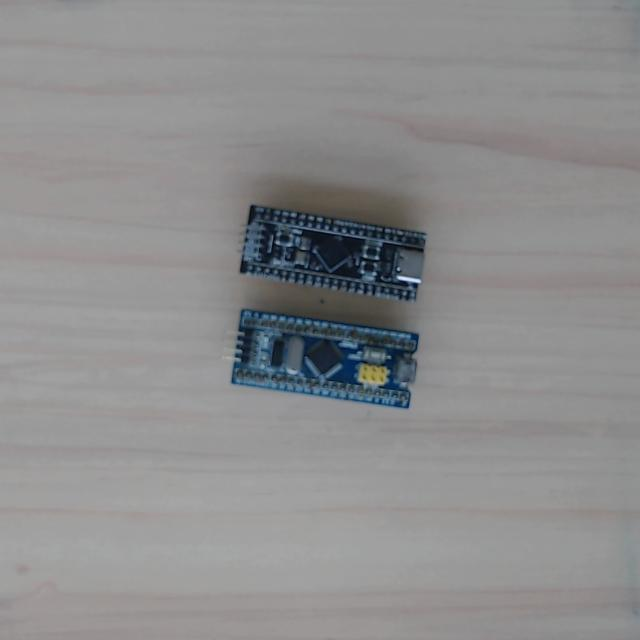STM32-Blackpill: (239, 204, 429, 303)
STM32-Bluepill: (231, 310, 421, 409)
